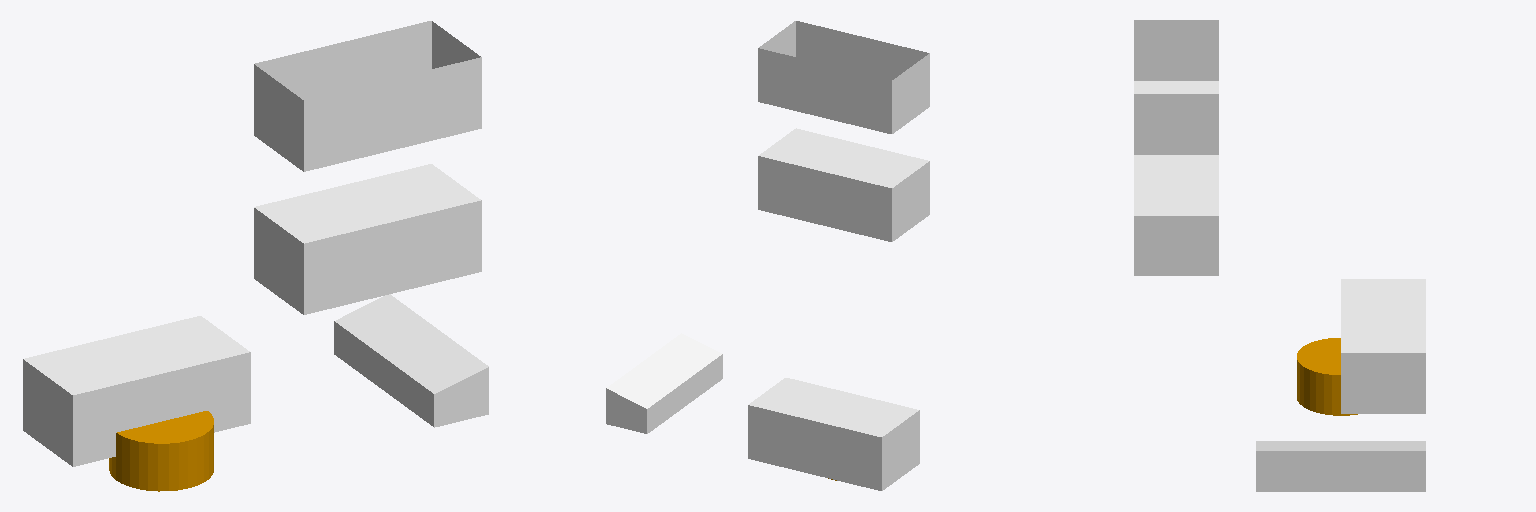
robot.urdf — crapahut_bricks:
<?xml version="1.0" ?>
<robot name="crapahut_bricks">
  <link name="base_link">
    <visual>
      <geometry>
        <cylinder length="0.1" radius="0.1"/>
      </geometry>
    </visual>
    <collision>
      <geometry>
        <cylinder length="0.1" radius="0.1"/>
      </geometry>
    </collision>
    <inertial>
      <mass value="0.0"/>
      <inertia ixx="0.0" iyy="0.0" izz="0.0" ixy="0.0" ixz="0.0" iyz="0.0"/>
      <origin xyz="0.0 0.0 0.0" rpy="0.0 0.0 0.0"/>
    </inertial>
  </link>

    <link name="pillar_1">
    <visual>
      <geometry>
        <mesh filename="package://mc_env_description/meshes/crapahut_bricks/pillar_1.stl" />
      </geometry>
      <material name="default">
        <color rgba="1.0 1.0 1.0 1" />
      </material>
    </visual>
    <inertial>
      <mass value="0.0"/>
      <inertia ixx="0.0" iyy="0.0" izz="0.0" ixy="0.0" ixz="0.0" iyz="0.0"/>
      <origin xyz="0.0 0.0 0.0" rpy="0.0 0.0 0.0"/>
    </inertial>

  </link>
  <joint name="pillar_1" type="fixed">
    <parent link="base_link" />
    <child link="pillar_1" />
    <origin rpy="0.0 0.0 0.0" xyz="0.23835942149162292 -0.3690038323402405 0.07500000298023224" />
  </joint>

  <link name="pillar_3">
    <visual>
      <geometry>
        <mesh filename="package://mc_env_description/meshes/crapahut_bricks/pillar_3.stl" />
      </geometry>
      <material name="default">
        <color rgba="1.0 1.0 1.0 1" />
      </material>
    </visual>
    <inertial>
      <mass value="0.0"/>
      <inertia ixx="0.0" iyy="0.0" izz="0.0" ixy="0.0" ixz="0.0" iyz="0.0"/>
      <origin xyz="0.0 0.0 0.0" rpy="0.0 0.0 0.0"/>
    </inertial>

  </link>
  <joint name="pillar_3" type="fixed">
    <parent link="base_link" />
    <child link="pillar_3" />
    <origin rpy="7.8657893525934e-16 -1.7881394143159923e-08 -8.797736228416397e-08" xyz="0.2383594512939453 -0.36900386214256287 0.375" />
  </joint>

  <link name="pillar_4">
    <visual>
      <geometry>
        <mesh filename="package://mc_env_description/meshes/crapahut_bricks/pillar_4.stl" />
      </geometry>
      <material name="default">
        <color rgba="1.0 1.0 1.0 1" />
      </material>
    </visual>
    <inertial>
      <mass value="0.0"/>
      <inertia ixx="0.0" iyy="0.0" izz="0.0" ixy="0.0" ixz="0.0" iyz="0.0"/>
      <origin xyz="0.0 0.0 0.0" rpy="0.0 0.0 0.0"/>
    </inertial>

  </link>
  <joint name="pillar_4" type="fixed">
    <parent link="base_link" />
    <child link="pillar_4" />
    <origin rpy="7.8657893525934e-16 -1.7881394143159923e-08 -8.797736228416397e-08" xyz="0.2383594512939453 -0.36900386214256287 0.5249999761581421" />
  </joint>

  <link name="pillar_5">
    <visual>
      <geometry>
        <mesh filename="package://mc_env_description/meshes/crapahut_bricks/pillar_5.stl" />
      </geometry>
      <material name="default">
        <color rgba="1.0 1.0 1.0 1" />
      </material>
    </visual>
    <inertial>
      <mass value="0.0"/>
      <inertia ixx="0.0" iyy="0.0" izz="0.0" ixy="0.0" ixz="0.0" iyz="0.0"/>
      <origin xyz="0.0 0.0 0.0" rpy="0.0 0.0 0.0"/>
    </inertial>

  </link>
  <joint name="pillar_5" type="fixed">
    <parent link="base_link" />
    <child link="pillar_5" />
    <origin rpy="7.8657893525934e-16 -1.7881394143159923e-08 -8.797736228416397e-08" xyz="0.2383594512939453 -0.36900386214256287 0.675000011920929" />
  </joint>

  <link name="pillar_6">
    <visual>
      <geometry>
        <mesh filename="package://mc_env_description/meshes/crapahut_bricks/pillar_6.stl" />
      </geometry>
      <material name="default">
        <color rgba="1.0 1.0 1.0 1" />
      </material>
    </visual>
    <inertial>
      <mass value="0.0"/>
      <inertia ixx="0.0" iyy="0.0" izz="0.0" ixy="0.0" ixz="0.0" iyz="0.0"/>
      <origin xyz="0.0 0.0 0.0" rpy="0.0 0.0 0.0"/>
    </inertial>

  </link>
  <joint name="pillar_6" type="fixed">
    <parent link="base_link" />
    <child link="pillar_6" />
    <origin rpy="7.8657893525934e-16 -1.7881394143159923e-08 -8.797736228416397e-08" xyz="0.2383594512939453 -0.36900386214256287 0.824999988079071" />
  </joint>

  <link name="pillar_2">
    <visual>
      <geometry>
        <mesh filename="package://mc_env_description/meshes/crapahut_bricks/pillar_2.stl" />
      </geometry>
      <material name="default">
        <color rgba="1.0 1.0 1.0 1" />
      </material>
    </visual>
    <inertial>
      <mass value="0.0"/>
      <inertia ixx="0.0" iyy="0.0" izz="0.0" ixy="0.0" ixz="0.0" iyz="0.0"/>
      <origin xyz="0.0 0.0 0.0" rpy="0.0 0.0 0.0"/>
    </inertial>

  </link>
  <joint name="pillar_2" type="fixed">
    <parent link="base_link" />
    <child link="pillar_2" />
    <origin rpy="7.8657893525934e-16 -1.7881394143159923e-08 -8.797736228416397e-08" xyz="0.2383594512939453 -0.36900386214256287 0.22499999403953552" />
  </joint>

  <link name="slant_right">
    <visual>
      <geometry>
        <mesh filename="package://mc_env_description/meshes/crapahut_bricks/slant_right.stl" />
      </geometry>
      <material name="default">
        <color rgba="1.0 1.0 1.0 1" />
      </material>
    </visual>
    <inertial>
      <mass value="0.0"/>
      <inertia ixx="0.0" iyy="0.0" izz="0.0" ixy="0.0" ixz="0.0" iyz="0.0"/>
      <origin xyz="0.0 0.0 0.0" rpy="0.0 0.0 0.0"/>
    </inertial>

  </link>
  <joint name="slant_right" type="fixed">
    <parent link="base_link" />
    <child link="slant_right" />
    <origin rpy="0.0 -0.2617993950843811 0.0" xyz="0.4000000059604645 -0.0949999988079071 0.12291000038385391" />
  </joint>

  <link name="slant_left">
    <visual>
      <geometry>
        <mesh filename="package://mc_env_description/meshes/crapahut_bricks/slant_left.stl" />
      </geometry>
      <material name="default">
        <color rgba="1.0 1.0 1.0 1" />
      </material>
    </visual>
    <inertial>
      <mass value="0.0"/>
      <inertia ixx="0.0" iyy="0.0" izz="0.0" ixy="0.0" ixz="0.0" iyz="0.0"/>
      <origin xyz="0.0 0.0 0.0" rpy="0.0 0.0 0.0"/>
    </inertial>

  </link>
  <joint name="slant_left" type="fixed">
    <parent link="base_link" />
    <child link="slant_left" />
    <origin rpy="0.0 -0.2617993950843811 0.0" xyz="0.4000000059604645 0.0949999988079071 0.12291000038385391" />
  </joint>

  <link name="support">
    <visual>
      <geometry>
        <mesh filename="package://mc_env_description/meshes/crapahut_bricks/support.stl" />
      </geometry>
      <material name="default">
        <color rgba="1.0 1.0 1.0 1" />
      </material>
    </visual>
    <inertial>
      <mass value="0.0"/>
      <inertia ixx="0.0" iyy="0.0" izz="0.0" ixy="0.0" ixz="0.0" iyz="0.0"/>
      <origin xyz="0.0 0.0 0.0" rpy="0.0 0.0 0.0"/>
    </inertial>

  </link>
  <joint name="support" type="fixed">
    <parent link="base_link" />
    <child link="support" />
    <origin rpy="0.0 0.0 0.0" xyz="0.5479999780654907 0.0 0.05000000074505806" />
  </joint>

  <link name="start_left">
    <visual>
      <geometry>
        <mesh filename="package://mc_env_description/meshes/crapahut_bricks/start_left.stl" />
      </geometry>
      <material name="default">
        <color rgba="1.0 1.0 1.0 1" />
      </material>
    </visual>

  </link>
  <joint name="start_left" type="fixed">
    <parent link="base_link" />
    <child link="start_left" />
    <origin rpy="0.0 0.0 0.0" xyz="0.0 -0.0949999988079071 0.07500000298023224" />
  </joint>

  <link name="start_right">
    <visual>
      <geometry>
        <mesh filename="package://mc_env_description/meshes/crapahut_bricks/start_right.stl" />
      </geometry>
      <material name="default">
        <color rgba="1.0 1.0 1.0 1" />
      </material>
    </visual>
    <inertial>
      <mass value="0.0"/>
      <inertia ixx="0.0" iyy="0.0" izz="0.0" ixy="0.0" ixz="0.0" iyz="0.0"/>
      <origin xyz="0.0 0.0 0.0" rpy="0.0 0.0 0.0"/>
    </inertial>

  </link>
  <joint name="start_right" type="fixed">
    <parent link="base_link" />
    <child link="start_right" />
    <origin rpy="0.0 0.0 0.0" xyz="0.0 0.0949999988079071 0.07500000298023224" />
  </joint>

</robot>

--- Render facts (derived) ---
Views: 3 orthographic renders of the robot side by side, from view 1: azimuth 30°, elevation 25°; view 2: azimuth 150°, elevation 25°; view 3: azimuth 270°, elevation 25°.
Robot: crapahut_bricks — 12 links, 11 joints (11 fixed); root link base_link; default pose: every joint at zero.
Links seen in each view (by area): view 1: pillar_4, pillar_6, start_right, support, base_link; view 2: pillar_4, pillar_6, start_right, support; view 3: pillar_6, start_right, pillar_4, support, base_link.
Boxes of the visible links, x1,y1,x2,y2 form: pillar_4: (254,164,481,314); pillar_6: (254,21,481,171); start_right: (23,316,250,466); support: (334,294,488,427); base_link: (109,411,213,491); pillar_4: (758,128,929,241); pillar_6: (758,21,929,133); start_right: (748,378,919,490); support: (606,333,722,433); pillar_6: (1134,20,1218,154); start_right: (1341,279,1425,413); pillar_4: (1134,155,1218,275); support: (1256,441,1425,491); base_link: (1297,338,1357,415).
Size in the robot's own frame: 0.803 by 0.654 by 0.95 metres.
Meshes: 11 distinct files referenced, 4 mesh visuals loaded (4 binary STL); not drawn: 7 (reference not matched to a file when rendering).